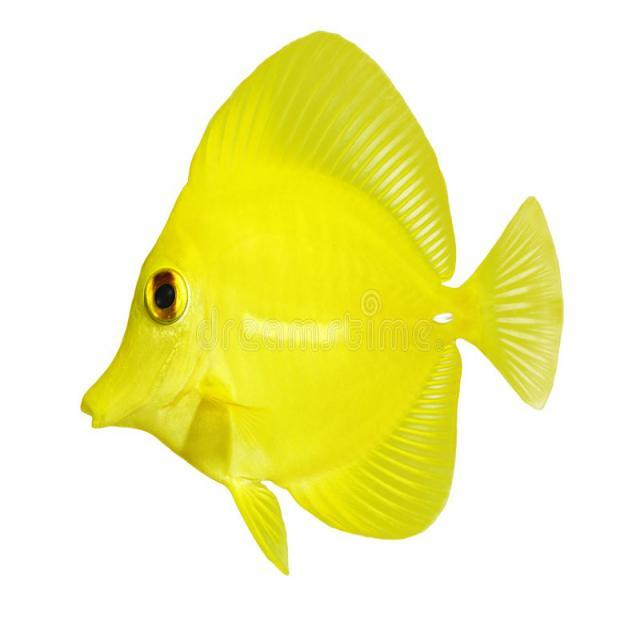YellowTang: (72, 20, 576, 581)
